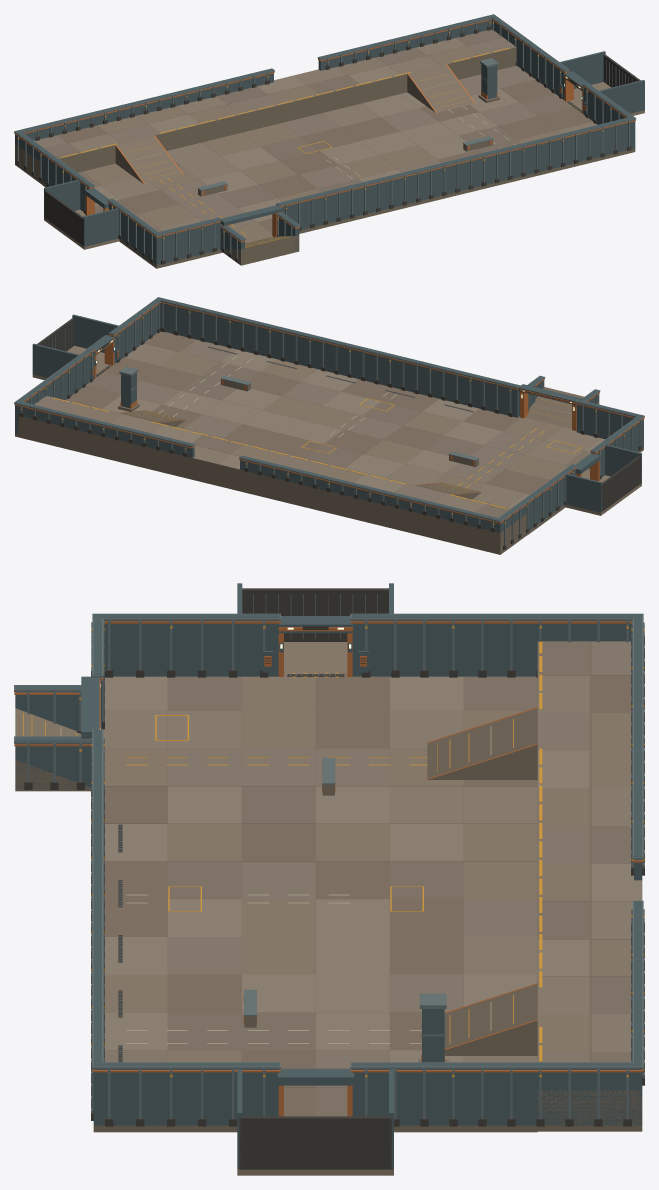
Rendered from wsc-scene-007-c1-loading-yard.glb.
3 renders of one model, top to bottom at view 1: azimuth 30°, elevation 25°; view 2: azimuth 150°, elevation 25°; view 3: azimuth 270°, elevation 25°, orthographic. The views are drawn at different scales.
Parts seen in each view (by area): view 1: South wall around G1.003, Entry terrace datum, Ground slab panels.003, Ground slab panels.004, Ground slab panels.002, Ground slab panels, North terrace wall.003, North descent ramps.003, Ground slab panels.005, Ground slab panels.001, South wall around G1.004, Entry terrace panels.002 (+25 smaller); view 2: South wall around G1.003, Entry terrace datum, Ground slab panels.004, Ground slab panels.003, Ground slab panels.002, Ground slab panels, North terrace wall.003, Ground slab panels.001, Ground slab panels.005, South wall around G1.004, East retaining run.003, West retaining run.003 (+22 smaller); view 3: Ground slab panels.003, Ground slab panels.004, Ground slab panels.002, East retaining run.003, West retaining run.003, Ground slab panels, Ground slab panels.001, Ground slab panels.005, North descent ramps.003, Entry terrace panels.002, Entry terrace panels.005, D2 recessed dock.002 (+27 smaller).
Boxes of the visible parts, x1=… form: South wall around G1.003: x1=154, y1=117, x2=634, y2=265; Entry terrace datum: x1=15, y1=37, x2=516, y2=184; Ground slab panels.003: x1=94, y1=88, x2=518, y2=221; Ground slab panels.004: x1=95, y1=79, x2=592, y2=232; Ground slab panels.002: x1=82, y1=123, x2=561, y2=243; Ground slab panels: x1=160, y1=66, x2=537, y2=228; North terrace wall.003: x1=15, y1=15, x2=494, y2=144; North descent ramps.003: x1=115, y1=64, x2=474, y2=183; Ground slab panels.005: x1=101, y1=103, x2=597, y2=230; Ground slab panels.001: x1=78, y1=93, x2=577, y2=231; South wall around G1.004: x1=153, y1=116, x2=635, y2=260; Entry terrace panels.002: x1=97, y1=46, x2=479, y2=133; South wall around G1.003: x1=157, y1=298, x2=643, y2=443; Entry terrace datum: x1=15, y1=405, x2=527, y2=554; Ground slab panels.004: x1=66, y1=331, x2=548, y2=494; Ground slab panels.003: x1=102, y1=349, x2=604, y2=508; Ground slab panels.002: x1=160, y1=352, x2=589, y2=507; Ground slab panels: x1=66, y1=339, x2=543, y2=483; North terrace wall.003: x1=15, y1=401, x2=502, y2=532; Ground slab panels.001: x1=86, y1=362, x2=590, y2=508; Ground slab panels.005: x1=124, y1=343, x2=600, y2=507; South wall around G1.004: x1=160, y1=298, x2=643, y2=436; East retaining run.003: x1=15, y1=297, x2=161, y2=433; West retaining run.003: x1=496, y1=415, x2=643, y2=551; Ground slab panels.003: x1=104, y1=676, x2=537, y2=1062; Ground slab panels.004: x1=104, y1=673, x2=537, y2=1116; Ground slab panels.002: x1=104, y1=673, x2=537, y2=1062; East retaining run.003: x1=93, y1=1062, x2=642, y2=1125; West retaining run.003: x1=94, y1=614, x2=641, y2=676; Ground slab panels: x1=104, y1=748, x2=537, y2=1087; Ground slab panels.001: x1=168, y1=676, x2=537, y2=1116; Ground slab panels.005: x1=102, y1=711, x2=537, y2=974; North descent ramps.003: x1=427, y1=708, x2=537, y2=1055; Entry terrace panels.002: x1=538, y1=713, x2=631, y2=1052; Entry terrace panels.005: x1=538, y1=675, x2=632, y2=1052; D2 recessed dock.002: x1=239, y1=1116, x2=391, y2=1169.
Bounding box in the file's own units: 96 × 6.56 × 48.33.
